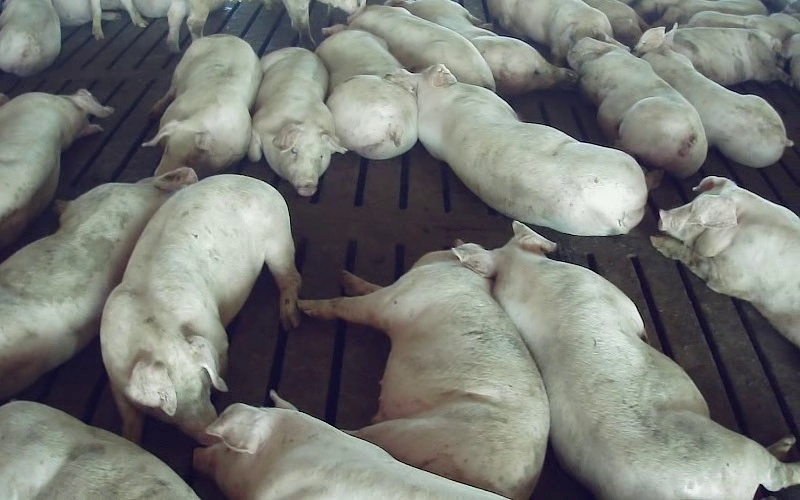pig: (454, 221, 799, 499), (300, 251, 547, 499), (100, 174, 300, 440), (0, 168, 197, 398), (389, 64, 647, 235), (194, 393, 505, 499), (651, 176, 799, 347), (634, 23, 791, 166), (568, 38, 707, 177), (386, 0, 576, 95), (0, 89, 112, 247), (143, 34, 261, 176), (248, 47, 345, 195), (315, 25, 416, 159), (349, 5, 494, 90), (487, 0, 611, 64), (672, 27, 787, 85)
